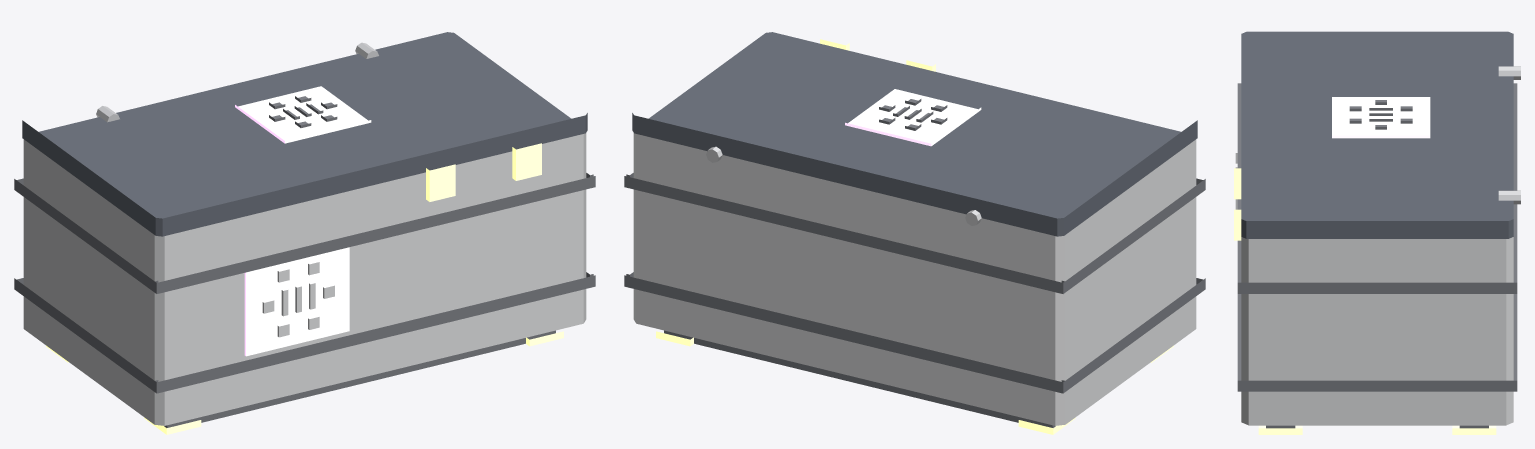
The model's file is iter_01_104.glb.
3 renders of one model, left to right at view 1: azimuth 30°, elevation 25°; view 2: azimuth 150°, elevation 25°; view 3: azimuth 270°, elevation 25°, orthographic.
Parts seen in each view (by area): view 1: Body_104, Lid_104, Ribs_104, Glyph_Plate_104, Lid_Glyph_104, Skids_104, Latches_104, Glyph_Marks_104, Lid_Glyph_Marks_104, Floor_Clamps_104; view 2: Body_104, Lid_104, Ribs_104, Lid_Glyph_104, Skids_104, Lid_Glyph_Marks_104, Floor_Clamps_104; view 3: Lid_104, Body_104, Ribs_104, Lid_Glyph_104, Floor_Clamps_104, Lid_Glyph_Marks_104, Hinges_104, Latches_104.
Boxes of the visible parts, bbox=[...] form: Body_104: bbox=[23, 133, 586, 425]; Lid_104: bbox=[22, 32, 587, 236]; Ribs_104: bbox=[14, 173, 595, 393]; Glyph_Plate_104: bbox=[244, 247, 349, 356]; Lid_Glyph_104: bbox=[235, 86, 371, 143]; Skids_104: bbox=[164, 330, 555, 427]; Latches_104: bbox=[426, 143, 541, 201]; Glyph_Marks_104: bbox=[262, 262, 334, 337]; Lid_Glyph_Marks_104: bbox=[269, 96, 337, 127]; Floor_Clamps_104: bbox=[46, 331, 563, 434]; Body_104: bbox=[633, 133, 1196, 425]; Lid_104: bbox=[632, 32, 1197, 236]; Ribs_104: bbox=[624, 173, 1205, 393]; Lid_Glyph_104: bbox=[845, 89, 981, 146]; Skids_104: bbox=[664, 330, 1055, 427]; Lid_Glyph_Marks_104: bbox=[879, 99, 947, 130]; Floor_Clamps_104: bbox=[656, 331, 1173, 434]; Lid_104: bbox=[1241, 31, 1513, 238]; Body_104: bbox=[1241, 237, 1513, 425]; Ribs_104: bbox=[1237, 83, 1517, 391]; Lid_Glyph_104: bbox=[1332, 97, 1430, 138]; Floor_Clamps_104: bbox=[1258, 425, 1496, 434]; Lid_Glyph_Marks_104: bbox=[1349, 100, 1412, 129]; Hinges_104: bbox=[1498, 66, 1520, 204]; Latches_104: bbox=[1234, 168, 1241, 240].
Bounding box in the file's own units: 1.02 × 0.512 × 0.585.
